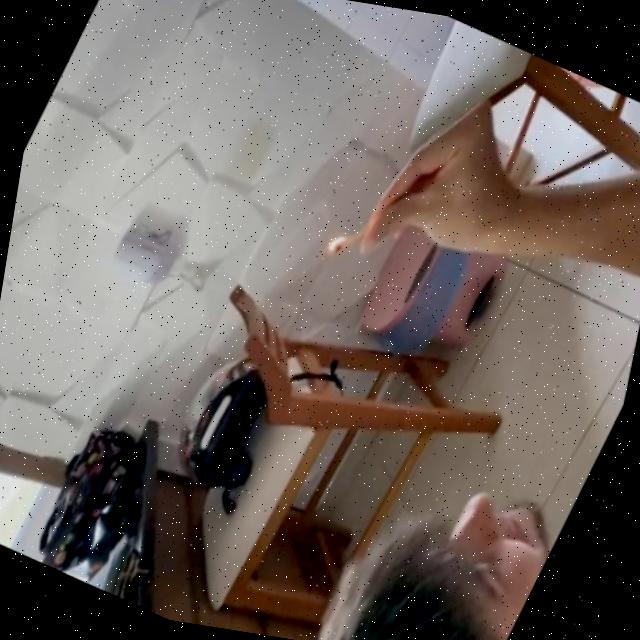fire: (326, 227, 354, 257)
